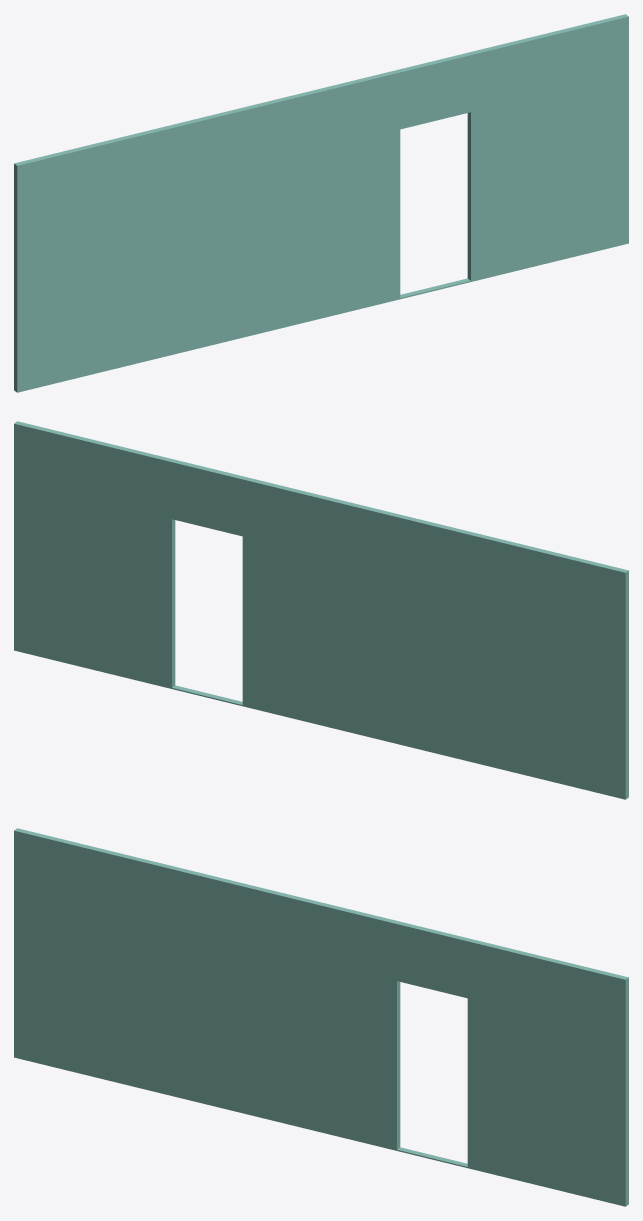
Rendered from Wall2.glb.
The picture shows the model from 3 angles, top to bottom: view 1: azimuth 30°, elevation 25°; view 2: azimuth 150°, elevation 25°; view 3: azimuth 330°, elevation 25°; orthographic projection.
Visible parts, largest first — view 1: Cube.049; view 2: Cube.049; view 3: Cube.049.
Boxes of the visible parts, <box> form: Cube.049: <box>14,14,628,392</box>; Cube.049: <box>14,421,628,799</box>; Cube.049: <box>14,828,628,1206</box>.
Bounding box in the file's own units: 12.59 × 4.46 × 0.1191.
